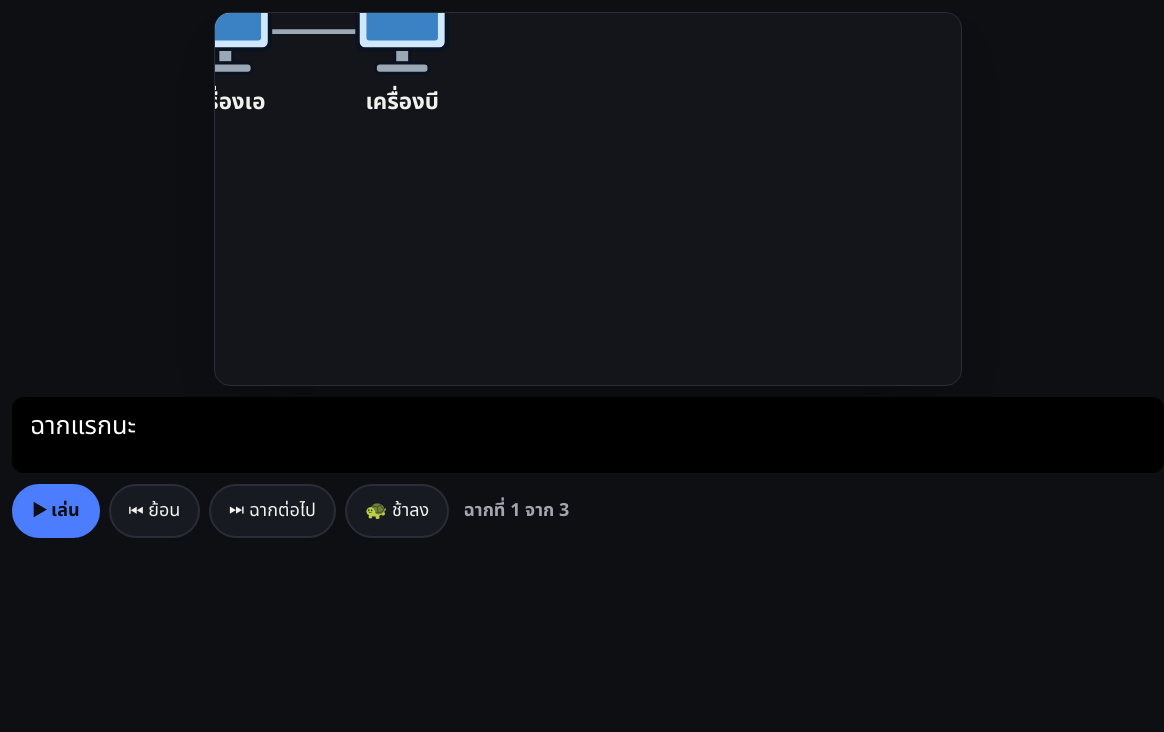
ScenePlayer › next and prev jump between scenes, preserving paused state
Click the button "⏭ ฉากต่อไป" at {"x": 273, "y": 511}, box 209,484 -> 336,538
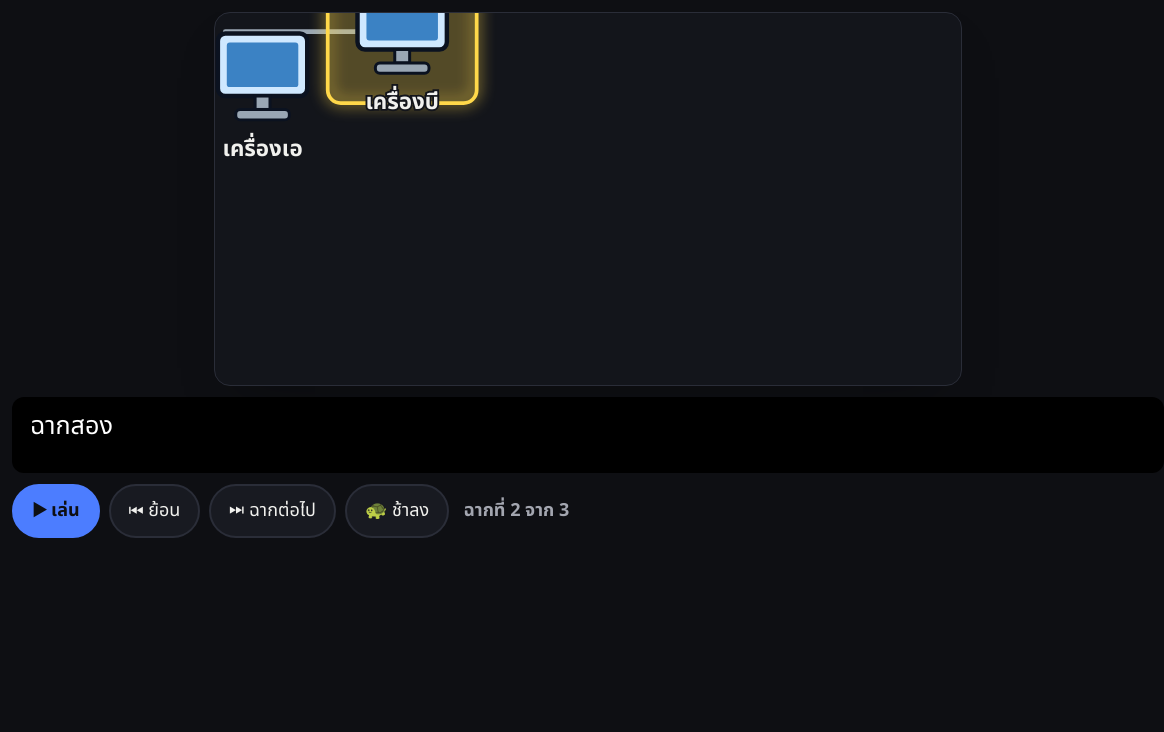
Expected: the button "▶ เล่น" is shown, 12,484 -> 100,538
Result: the text "ฉากที่ 2 จาก 3" is shown at 464,496 -> 569,526
Click the button "⏮ ย้อน" at {"x": 154, "y": 511}, box 109,484 -> 200,538
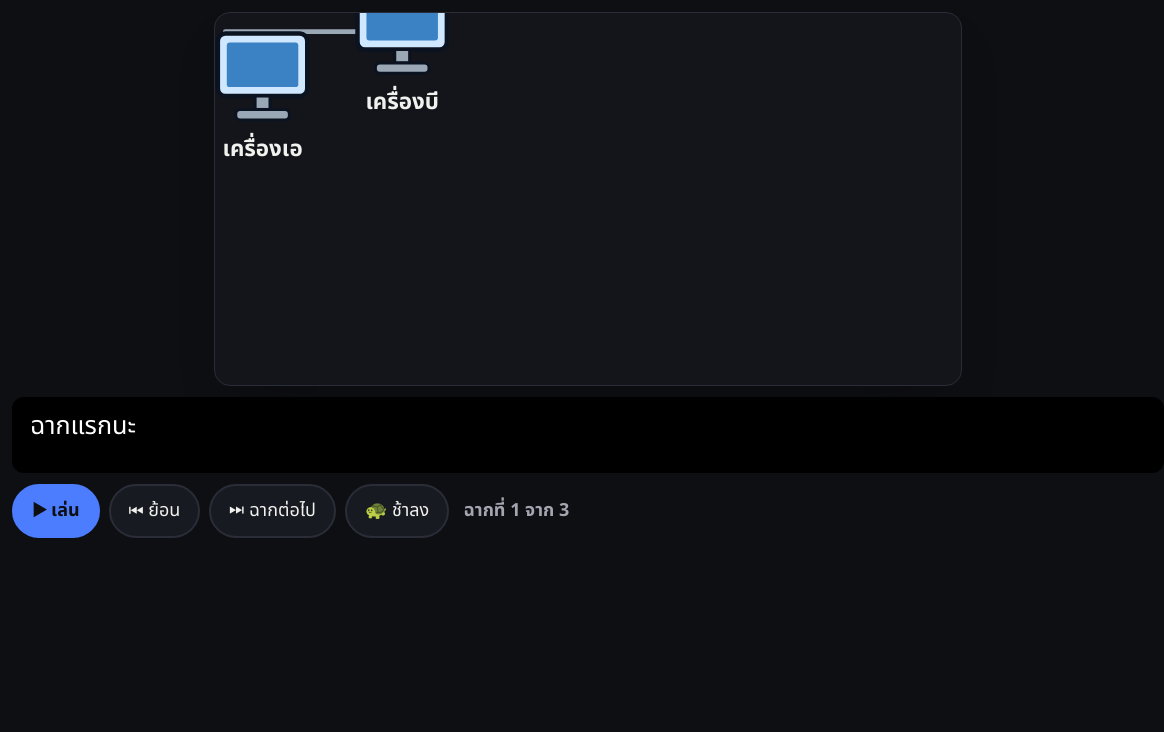
Result: the text "ฉากที่ 1 จาก 3" is shown at 464,496 -> 569,526
